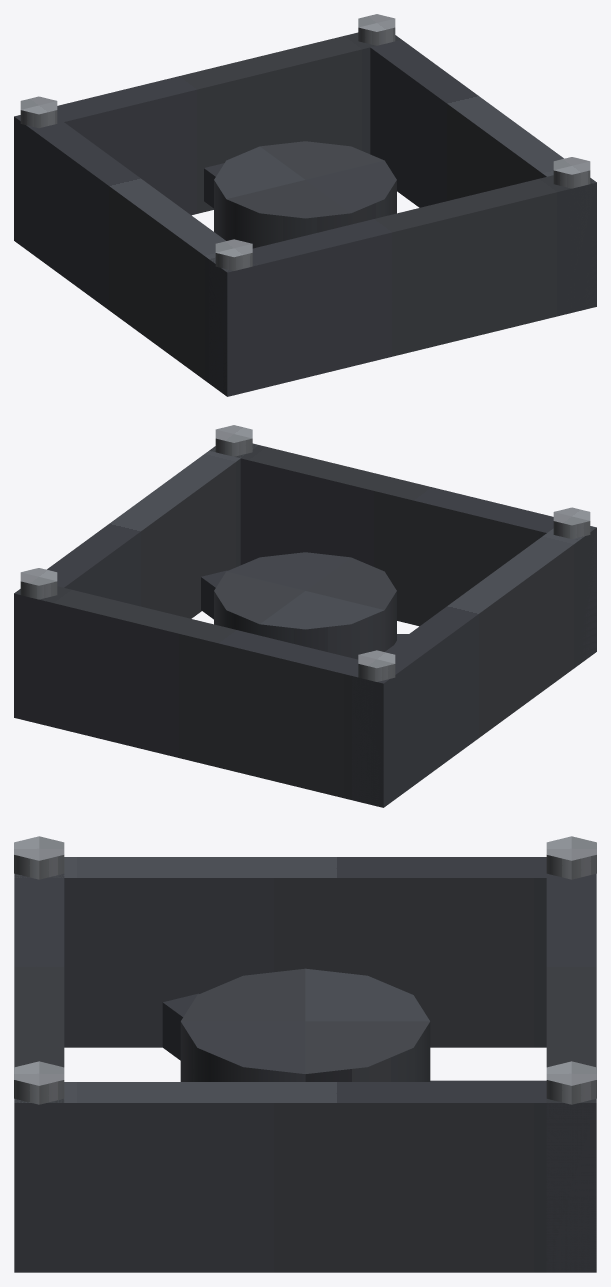
Rendered from rack_fan_frame.obj.
The picture shows the model from 3 angles, top to bottom: view 1: azimuth 30°, elevation 25°; view 2: azimuth 150°, elevation 25°; view 3: azimuth 270°, elevation 25°; orthographic projection. The views are drawn at different scales.
Size of the model in its own units: 0.142 by 0.05 by 0.1401.
